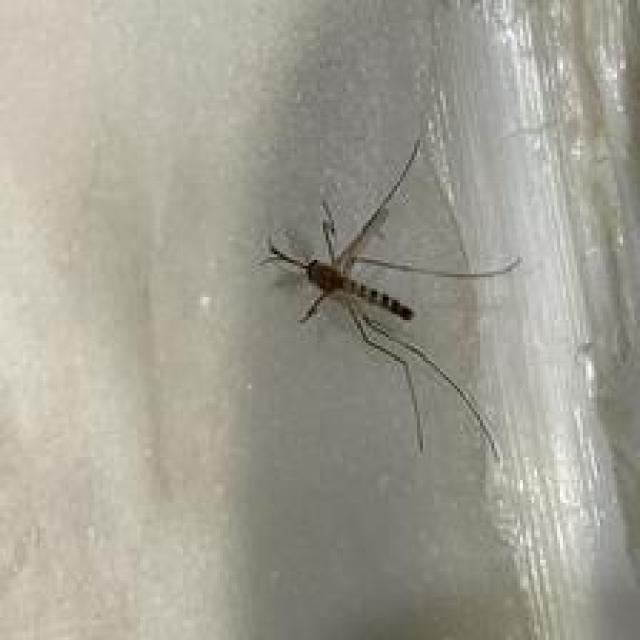Culex: (256, 136, 521, 464)
